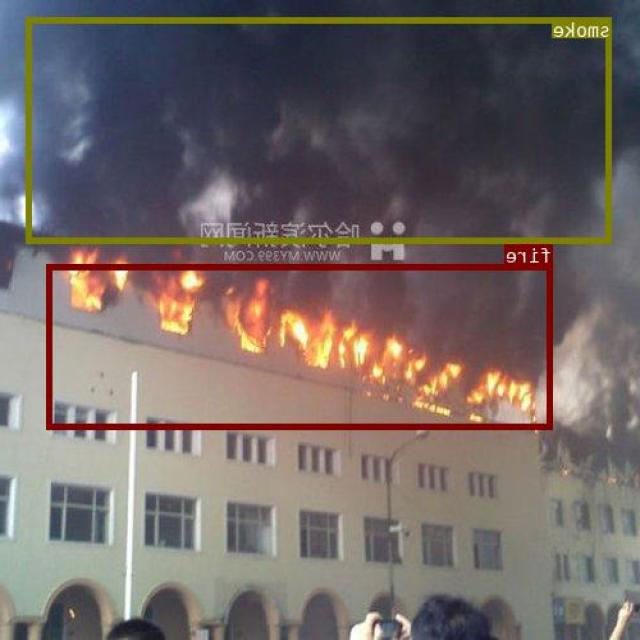fire: (49, 263, 554, 428)
smoke: (28, 17, 612, 242)
